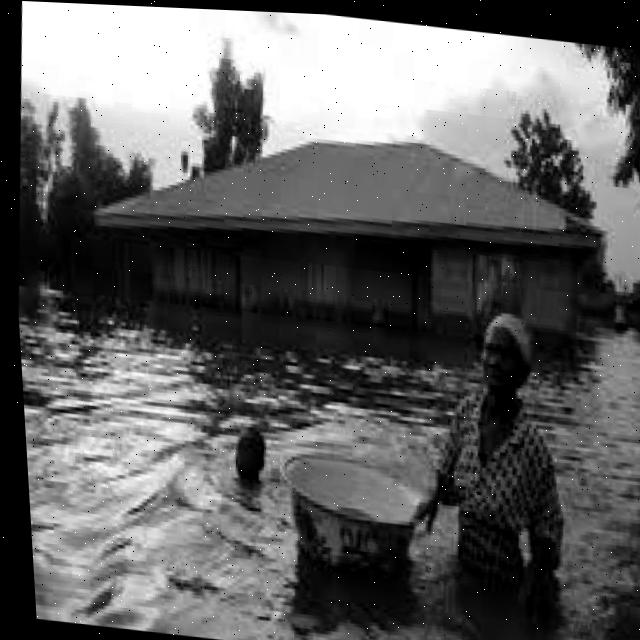civilian: (421, 296, 586, 609), (204, 414, 290, 524)
